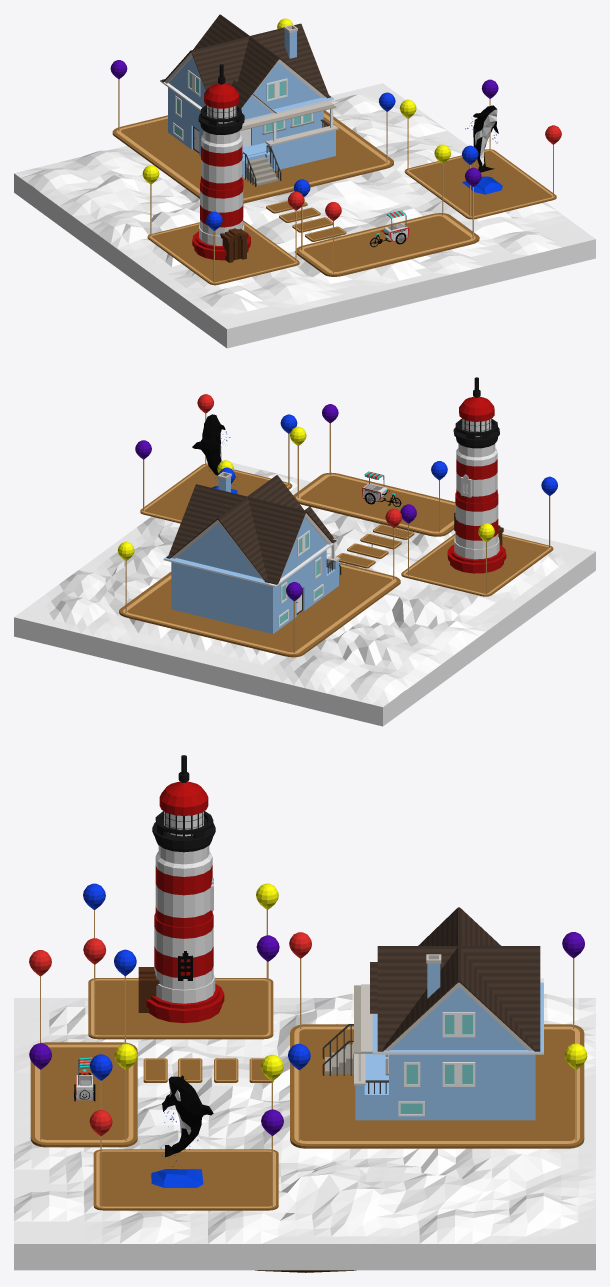
3 views of the same model, one above another, from view 1: azimuth 30°, elevation 25°; view 2: azimuth 150°, elevation 25°; view 3: azimuth 270°, elevation 25° (orthographic). The views are drawn at different scales.
Visible parts, largest first — view 1: Cube.013, Cube.1594, OBJRANDOM_LIGHTHOUSE, ANIMAL_ORCA, VEHICLES_SNOWBAL_BIKE; view 2: Cube.013, Cube.1594, OBJRANDOM_LIGHTHOUSE, ANIMAL_ORCA, VEHICLES_SNOWBAL_BIKE; view 3: Cube.013, Cube.1594, OBJRANDOM_LIGHTHOUSE, ANIMAL_ORCA, VEHICLES_SNOWBAL_BIKE.
Part boxes in pixels (box(x1,y1,x2,y2)): Cube.013: box(14, 18, 595, 348); Cube.1594: box(160, 14, 338, 186); OBJRANDOM_LIGHTHOUSE: box(192, 64, 250, 262); ANIMAL_ORCA: box(462, 105, 502, 194); VEHICLES_SNOWBAL_BIKE: box(369, 210, 409, 247); Cube.013: box(14, 394, 595, 726); Cube.1594: box(163, 471, 341, 633); OBJRANDOM_LIGHTHOUSE: box(447, 377, 506, 573); ANIMAL_ORCA: box(192, 414, 237, 493); VEHICLES_SNOWBAL_BIKE: box(362, 471, 401, 506); Cube.013: box(14, 883, 595, 1270); Cube.1594: box(322, 907, 543, 1120); OBJRANDOM_LIGHTHOUSE: box(138, 755, 224, 1023); ANIMAL_ORCA: box(151, 1075, 213, 1187); VEHICLES_SNOWBAL_BIKE: box(73, 1057, 95, 1101).
Bounding box in the file's own units: 4000 × 2467 × 4000.
39 materials, 1 textured.
